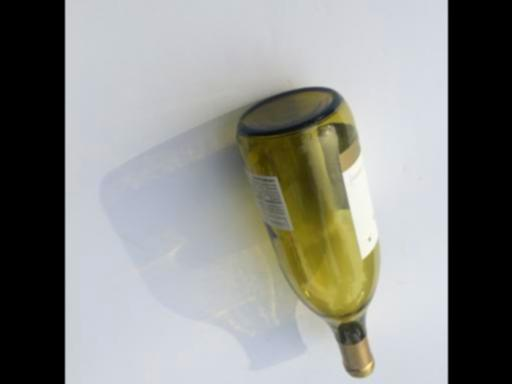alcohol: (233, 87, 380, 379)
glass: (233, 87, 380, 379)
sodocalcique: (233, 87, 380, 379)
